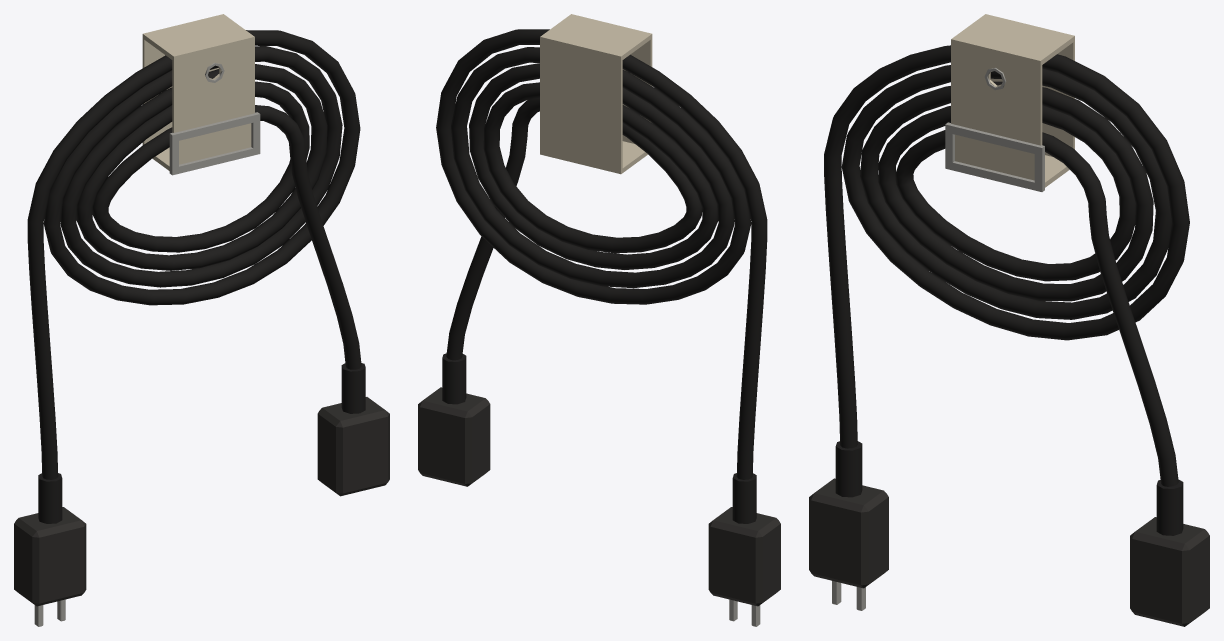
The model's file is cable-coil-small-tied-42831c773f3b.glb.
The picture shows the model from 3 angles, left to right: view 1: azimuth 30°, elevation 25°; view 2: azimuth 150°, elevation 25°; view 3: azimuth 330°, elevation 25°; orthographic projection. The views are drawn at different scales.
Parts seen in each view (by area): view 1: rubber, plastic-dark, cloth-cream, brushed; view 2: rubber, cloth-cream, plastic-dark; view 3: rubber, plastic-dark, cloth-cream, brushed.
Boxes of the visible parts, box(x1,y1,x2,y2) form: rubber: box(27, 30, 365, 523); plastic-dark: box(14, 397, 389, 606); cloth-cream: box(142, 14, 254, 170); brushed: box(34, 62, 260, 626); rubber: box(436, 29, 767, 523); cloth-cream: box(540, 14, 652, 174); plastic-dark: box(418, 387, 780, 606); rubber: box(824, 45, 1189, 535); plastic-dark: box(809, 478, 1209, 626); cloth-cream: box(951, 14, 1074, 187); brushed: box(832, 68, 1044, 610).
Bounding box in the file's own units: 0.156 × 0.234 × 0.026.
